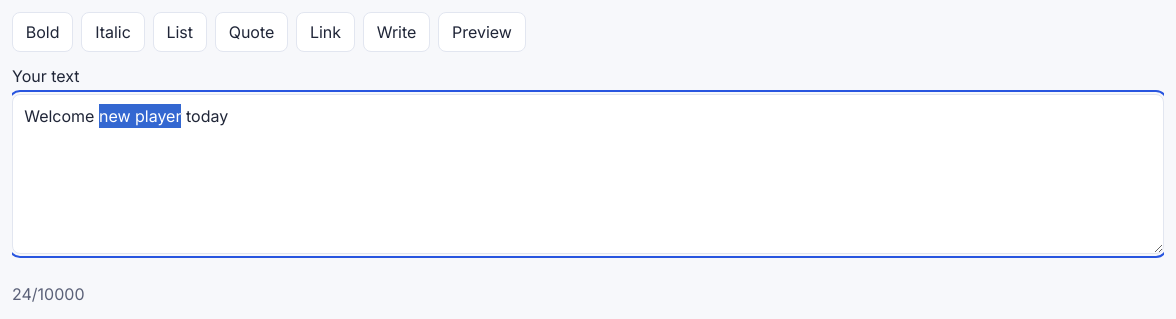
Test case: formats a selected phrase and returns focus and selection to the editor
This screenshot has width=1176, height=319.
Click the button "Bold" at coordinates (43, 32), box [12, 12, 73, 52]
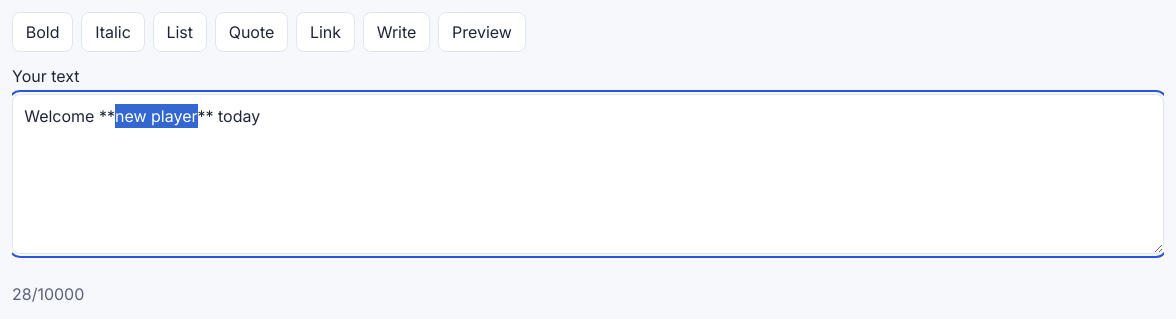
Now the text box labelled "Your text" holds "Welcome **new player** today", box [12, 94, 1164, 254]
